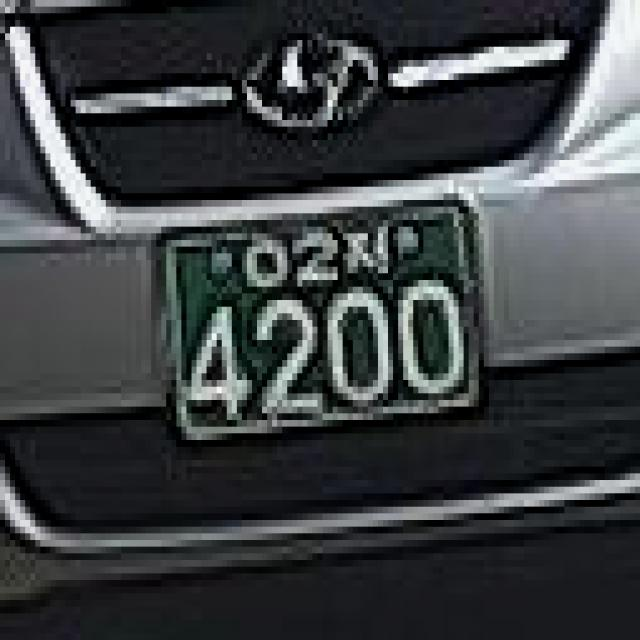illegal_plate: (147, 191, 496, 461)
